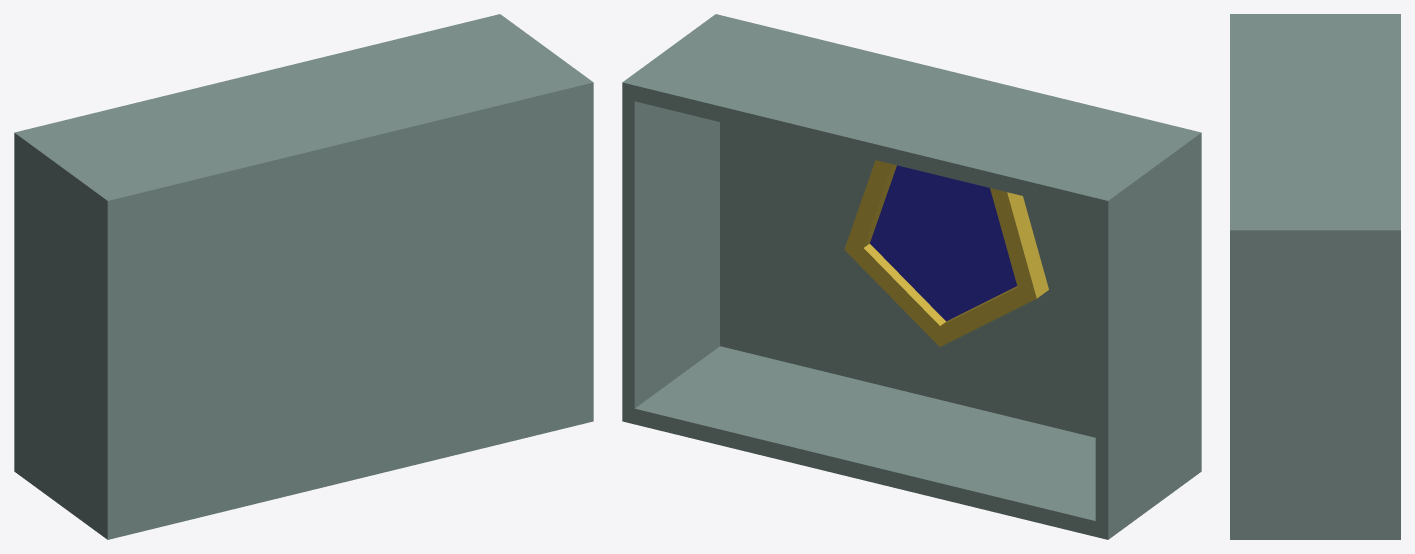
The model's file is Room2.fbx.
The picture shows the model from 3 angles, left to right: view 1: azimuth 30°, elevation 25°; view 2: azimuth 150°, elevation 25°; view 3: azimuth 270°, elevation 25°; orthographic projection. The views are drawn at different scales.
Visible parts, largest first — view 1: Cube; view 2: Cube; view 3: Cube.
Part boxes in pixels (bbox=[...]): Cube: bbox=[14, 14, 593, 539]; Cube: bbox=[622, 14, 1201, 539]; Cube: bbox=[1230, 14, 1400, 539].
Size of the model in its own units: 6 by 4 by 2.
Materials: 2 (2 with a texture image).
